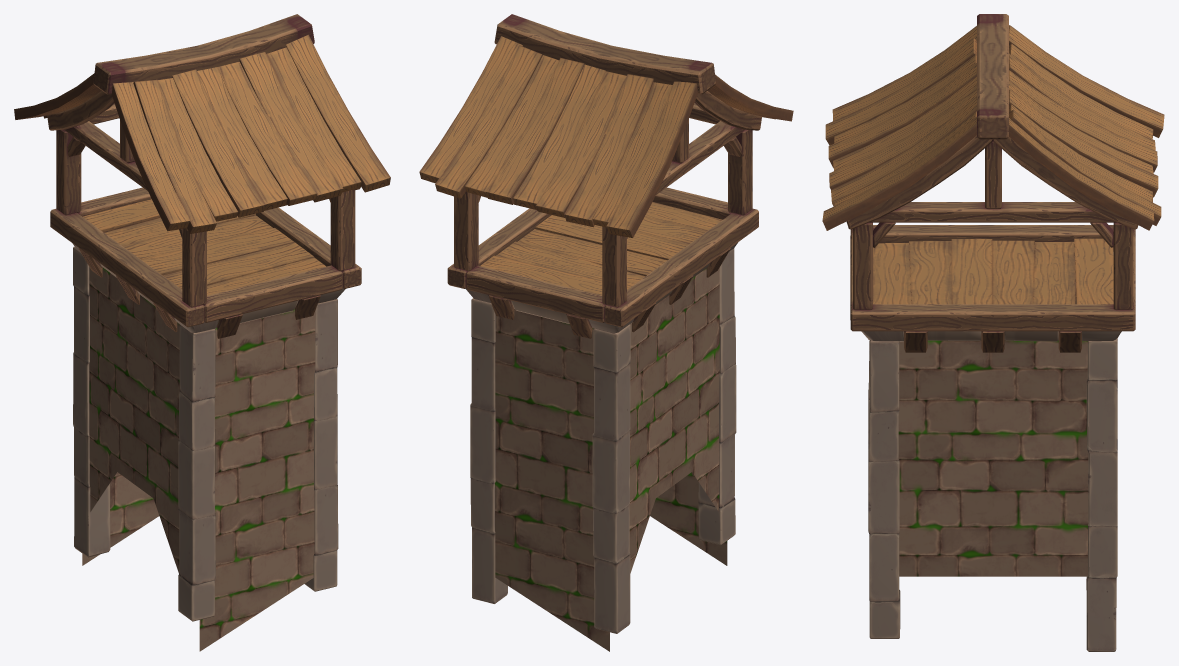
The model's file is SM_Arena_TowerLarge.fbx.
The picture shows the model from 3 angles, left to right: view 1: azimuth 30°, elevation 25°; view 2: azimuth 150°, elevation 25°; view 3: azimuth 270°, elevation 25°; orthographic projection. The views are drawn at different scales.
Visible parts, largest first — view 1: TowerLarge_Walls, TowerLarge_RoofPlanks, TowerLarge_WoodenFrame, TowerLarge_Pillar3, TowerLarge_WoodenFloor, TowerLarge_Pillar4, TowerLarge_Pillar1, TowerLarge_Beam, TowerLarge_SlopedStones; view 2: TowerLarge_Walls, TowerLarge_RoofPlanks, TowerLarge_WoodenFrame, TowerLarge_Pillar1, TowerLarge_WoodenFloor, TowerLarge_Pillar2, TowerLarge_Beam, TowerLarge_Pillar3, TowerLarge_SlopedStones; view 3: TowerLarge_Walls, TowerLarge_RoofPlanks, TowerLarge_WoodenFrame, TowerLarge_WoodenFloor, TowerLarge_Pillar2, TowerLarge_Pillar4, TowerLarge_Beam, TowerLarge_SlopedStones.
Boxes of the visible parts, x1,y1,x2,y2 form: TowerLarge_Walls: (82, 267, 315, 651); TowerLarge_RoofPlanks: (14, 34, 390, 233); TowerLarge_WoodenFrame: (47, 90, 361, 338); TowerLarge_Pillar3: (178, 324, 215, 621); TowerLarge_WoodenFloor: (82, 199, 325, 295); TowerLarge_Pillar4: (304, 299, 338, 591); TowerLarge_Pillar1: (73, 246, 110, 557); TowerLarge_Beam: (93, 14, 314, 94); TowerLarge_SlopedStones: (72, 243, 345, 332); TowerLarge_Walls: (495, 268, 727, 651); TowerLarge_RoofPlanks: (419, 36, 793, 237); TowerLarge_WoodenFrame: (447, 91, 761, 338); TowerLarge_Pillar1: (592, 324, 630, 633); TowerLarge_WoodenFloor: (480, 202, 722, 295); TowerLarge_Pillar2: (470, 298, 507, 603); TowerLarge_Beam: (494, 14, 715, 94); TowerLarge_Pillar3: (698, 248, 736, 544); TowerLarge_SlopedStones: (466, 242, 737, 333); TowerLarge_Walls: (898, 297, 1088, 576); TowerLarge_RoofPlanks: (822, 25, 1164, 230); TowerLarge_WoodenFrame: (846, 135, 1138, 352); TowerLarge_WoodenFloor: (873, 238, 1113, 304); TowerLarge_Pillar2: (1086, 338, 1117, 651); TowerLarge_Pillar4: (868, 340, 900, 638); TowerLarge_Beam: (977, 14, 1008, 139); TowerLarge_SlopedStones: (861, 252, 1121, 341).
Bounding box in the file's own units: 0.5896 × 1.41 × 0.7648.
